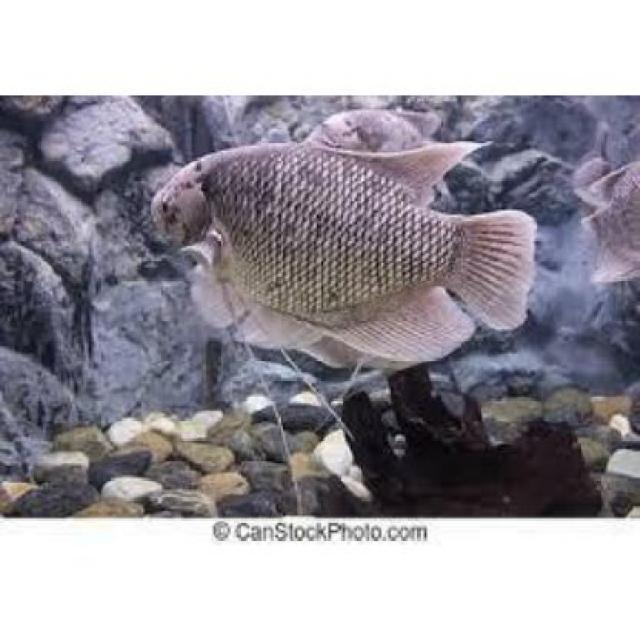gurame: (150, 136, 524, 362)
